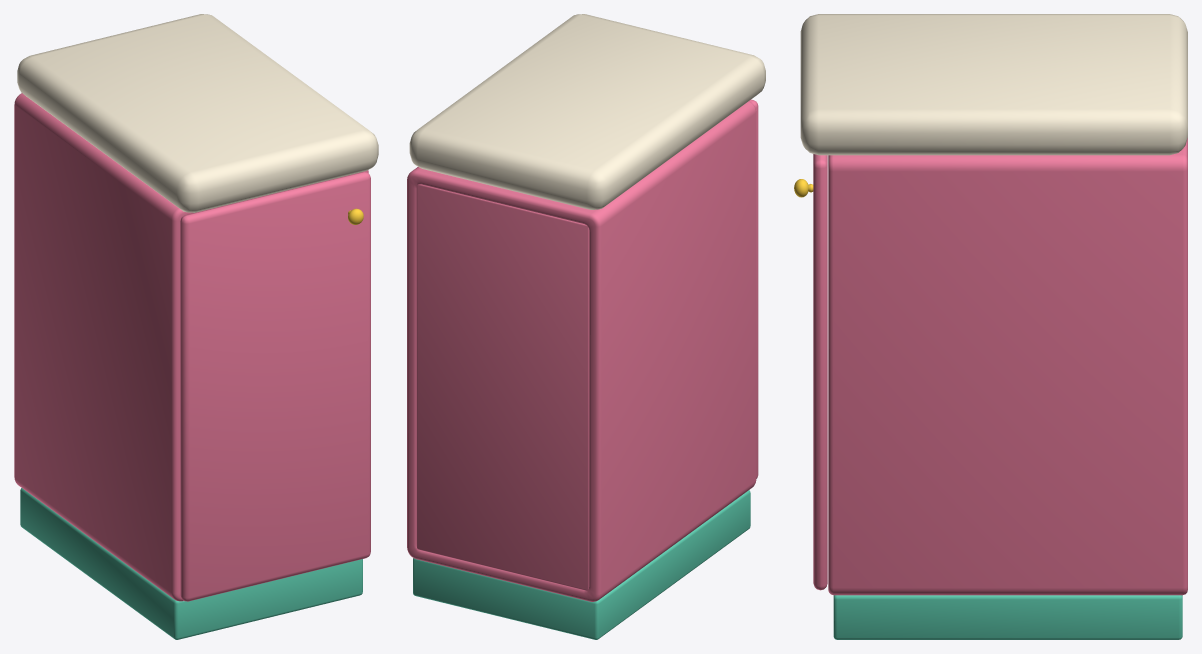
File: armario_cozinha_base_1porta_verde_rosa.glb
3 renders of one model, left to right at view 1: azimuth 30°, elevation 25°; view 2: azimuth 150°, elevation 25°; view 3: azimuth 270°, elevation 25°, orthographic. The views are drawn at different scales.
Visible parts, largest first — view 1: armario_cozinha_base_1porta_verde_rosa, porta_1; view 2: armario_cozinha_base_1porta_verde_rosa, porta_1; view 3: armario_cozinha_base_1porta_verde_rosa, porta_1.
Part boxes in pixels (left/top/right/bottom): armario_cozinha_base_1porta_verde_rosa: left=14, top=14, right=378, bottom=639; porta_1: left=180, top=172, right=370, bottom=601; armario_cozinha_base_1porta_verde_rosa: left=407, top=14, right=765, bottom=639; porta_1: left=749, top=99, right=758, bottom=478; armario_cozinha_base_1porta_verde_rosa: left=800, top=14, right=1187, bottom=639; porta_1: left=794, top=154, right=827, bottom=590.
Size of the model in its own units: 0.398 by 0.9 by 0.609.
Materials: 1 (1 with a texture image).
